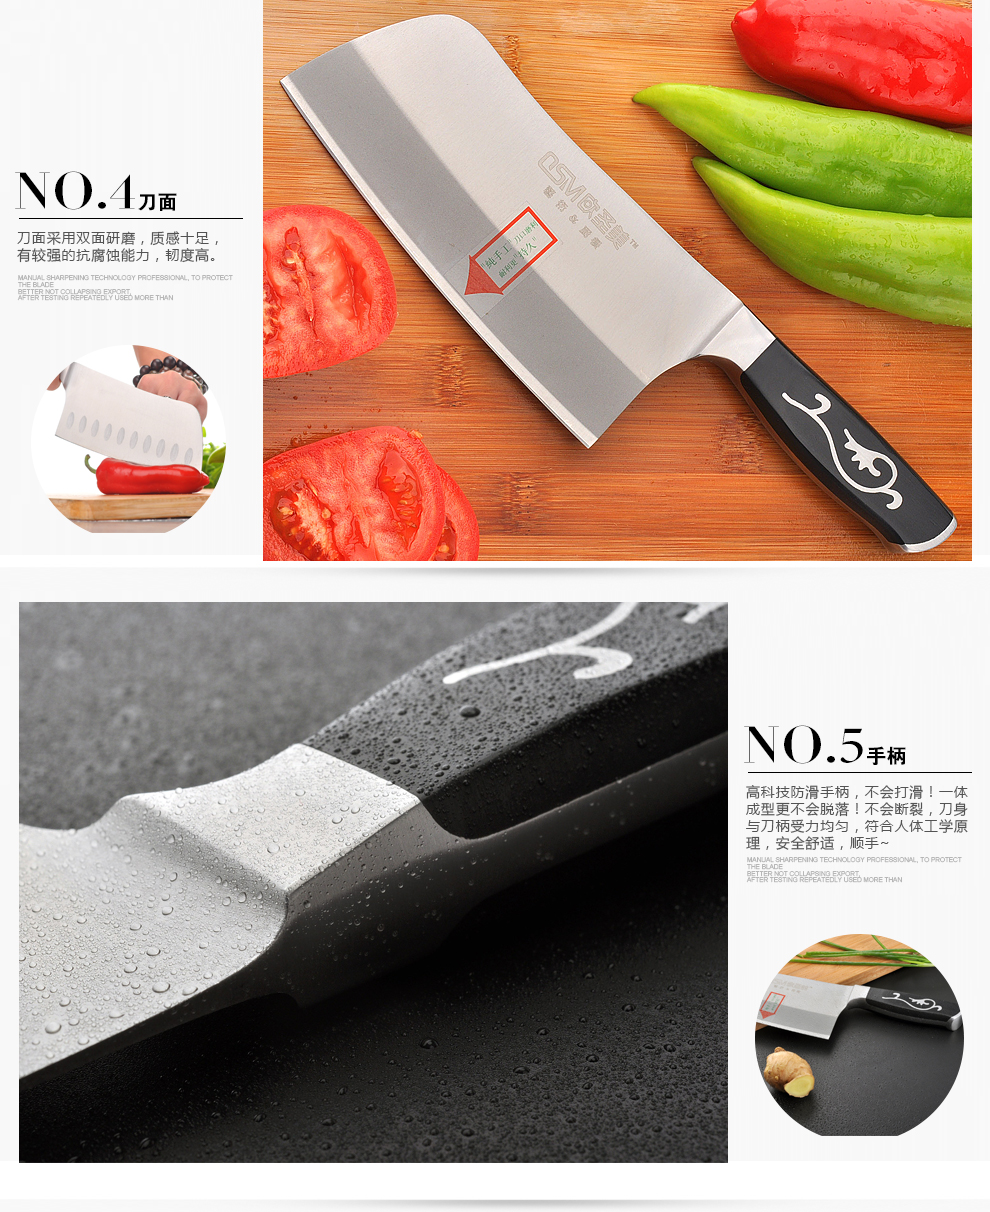knief: (283, 51, 952, 533)
